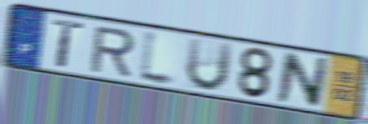8: (237, 46, 274, 101)
L: (136, 26, 179, 91)
N: (274, 50, 330, 110)
R: (87, 25, 137, 78)
T: (50, 16, 86, 70)
U: (183, 36, 235, 93)
